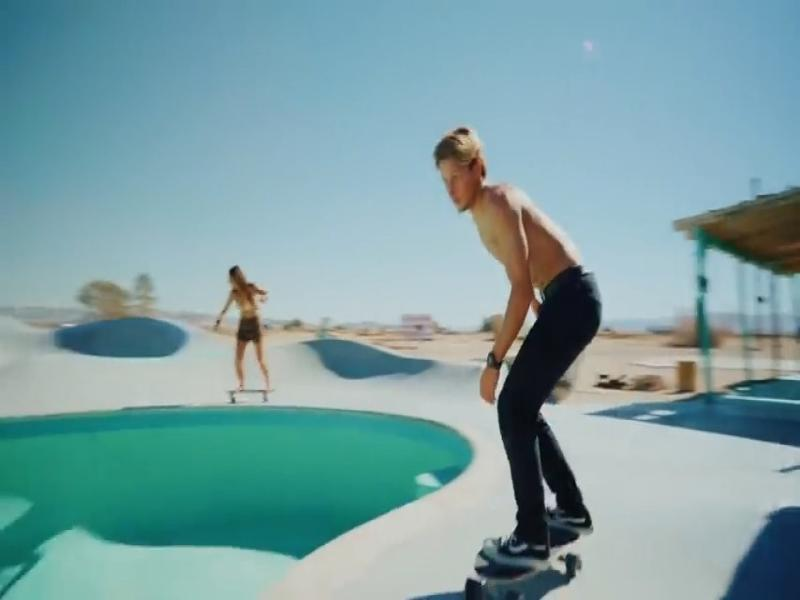person: (436, 127, 602, 566), (216, 267, 270, 389), (238, 317, 261, 343)
skate: (464, 555, 581, 600), (227, 390, 272, 403)
